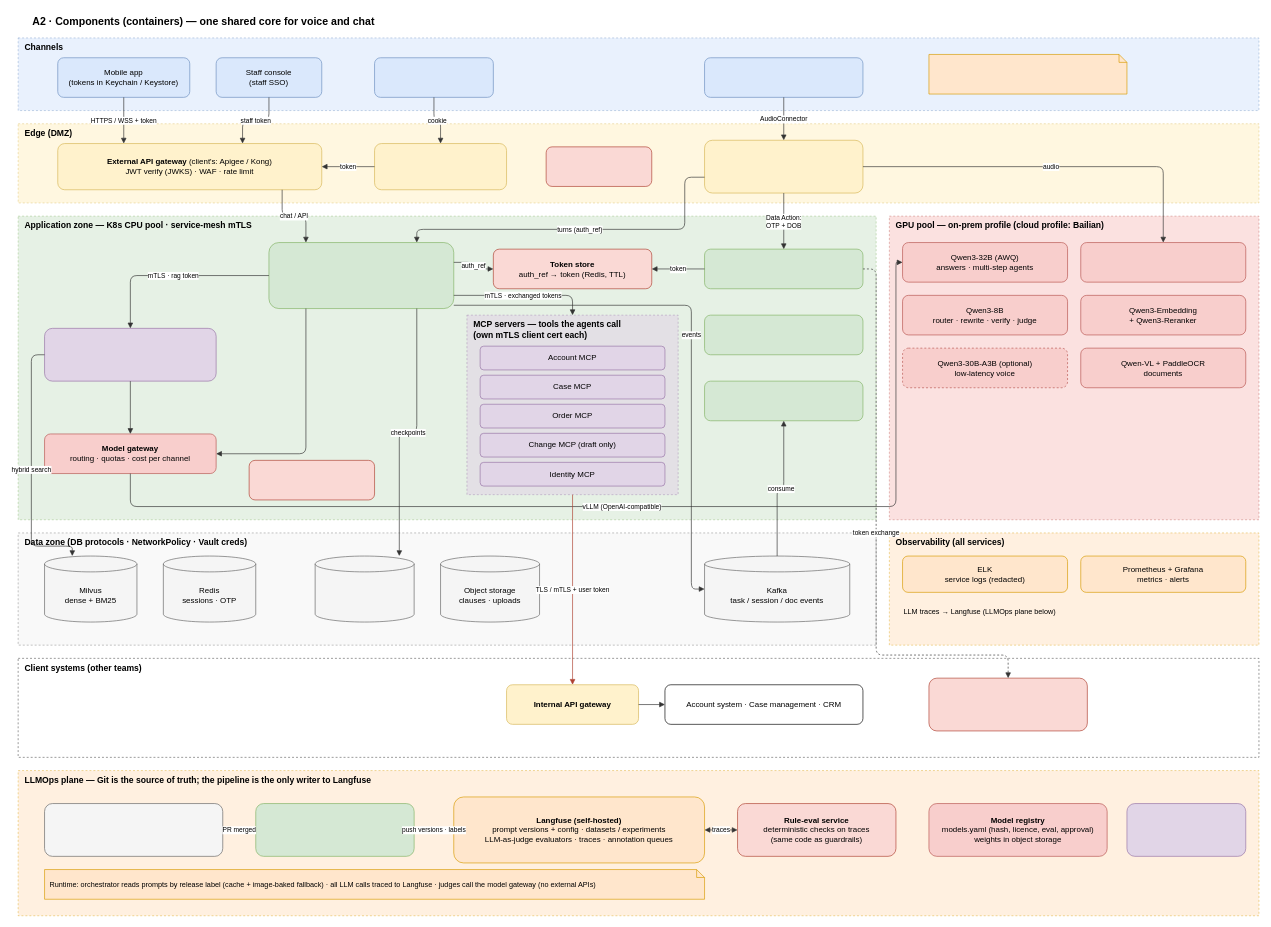
The diagram is 1271 pixels wide and 927 high, and some of its shapes have lost their labels. Here are the shapes that lost their labels. From the top down, the centre of each, then its label:
pixel 433 77: Web browser (HttpOnly cookie only)
pixel 783 77: Phone → Genesys (IVR · ACD · secure DTMF flows)
pixel 1027 74: Config in release bundle: agents.yaml · policy.yaml · session.yaml
pixel 440 166: Web BFF OIDC client · server-side tokens
pixel 598 166: File scan (AV + CDR)
pixel 783 166: Voice gateway Genesys AudioConnector (WSS) VAD · barge-in · streaming TTS
pixel 361 275: Orchestrator LangGraph: router + workers checkpoints · token exchange
pixel 783 268: Verification service SMS OTP + DOB (DTMF) → IdP
pixel 1163 262: Speech (on-prem profile) FunASR / SenseVoice · CosyVoice
pixel 130 354: RAG service rewrite · hybrid search · rerank · citation check
pixel 783 334: Approval service SoD check → Command(resume)
pixel 783 400: Notification service chat thread / push / SMS
pixel 311 480: Guardrail library input / output rules (shared with rule-eval service)
pixel 364 588: Postgres checkpoints · tasks audit index
pixel 1007 704: IdP (OIDC) customer + staff SSO token exchange / CIBA
pixel 133 829: Git prompts · models.yaml · evaluators judge prompts · datasets · release.yaml
pixel 334 829: CI / CD pipeline sync → evaluate → gate → label → deploy → canary
pixel 1186 829: Test harness user simulator · mock core systems · SIP sim · red team
